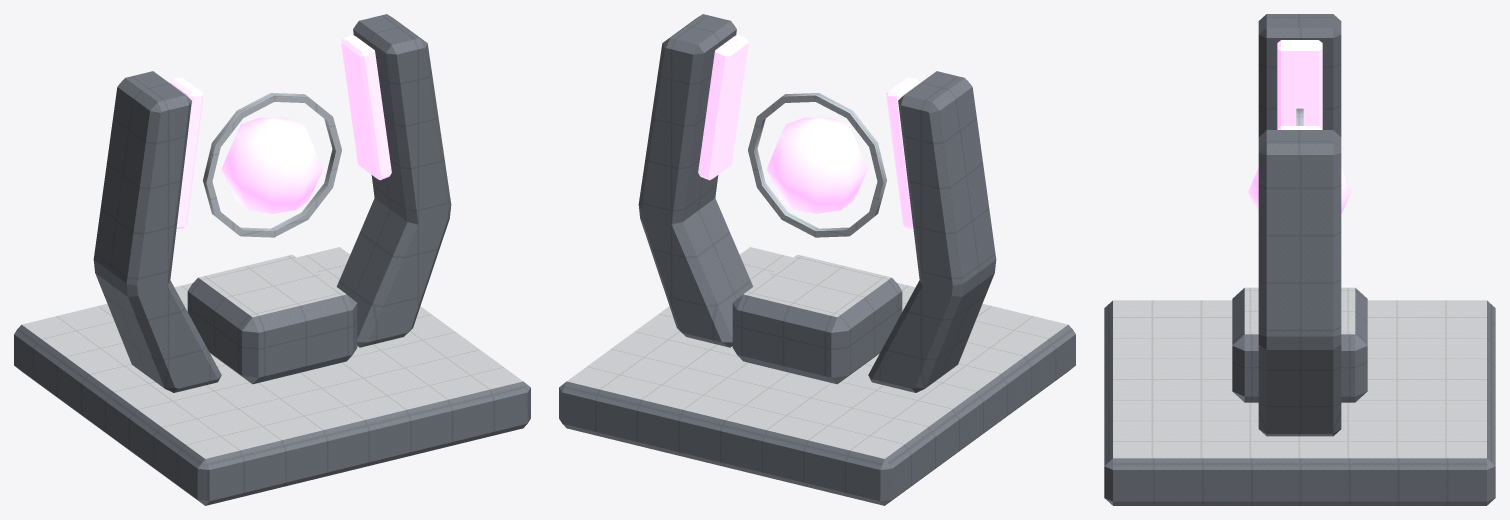
File: R4X_Blink_LOD1.glb
3 views of the same model, side by side, from view 1: azimuth 30°, elevation 25°; view 2: azimuth 150°, elevation 25°; view 3: azimuth 270°, elevation 25° (orthographic).
Parts seen in each view (by area): view 1: R4X_Blink_LOD1; view 2: R4X_Blink_LOD1; view 3: R4X_Blink_LOD1.
Part boxes in pixels (box(x1,y1,x2,y2)): R4X_Blink_LOD1: box(14, 14, 530, 505); R4X_Blink_LOD1: box(559, 14, 1075, 505); R4X_Blink_LOD1: box(1104, 14, 1495, 505).
Size of the model in its own units: 0.52 by 0.51 by 0.52.
Materials: 4 (3 with a texture image).
